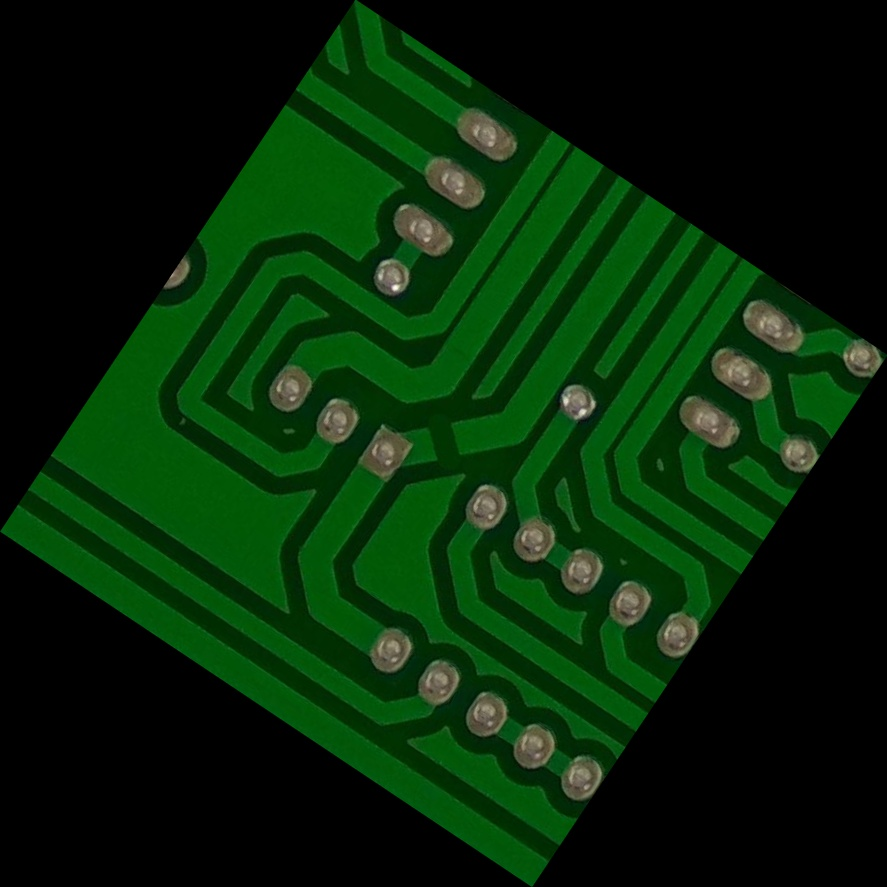open_circuit: (402, 403, 485, 484)
